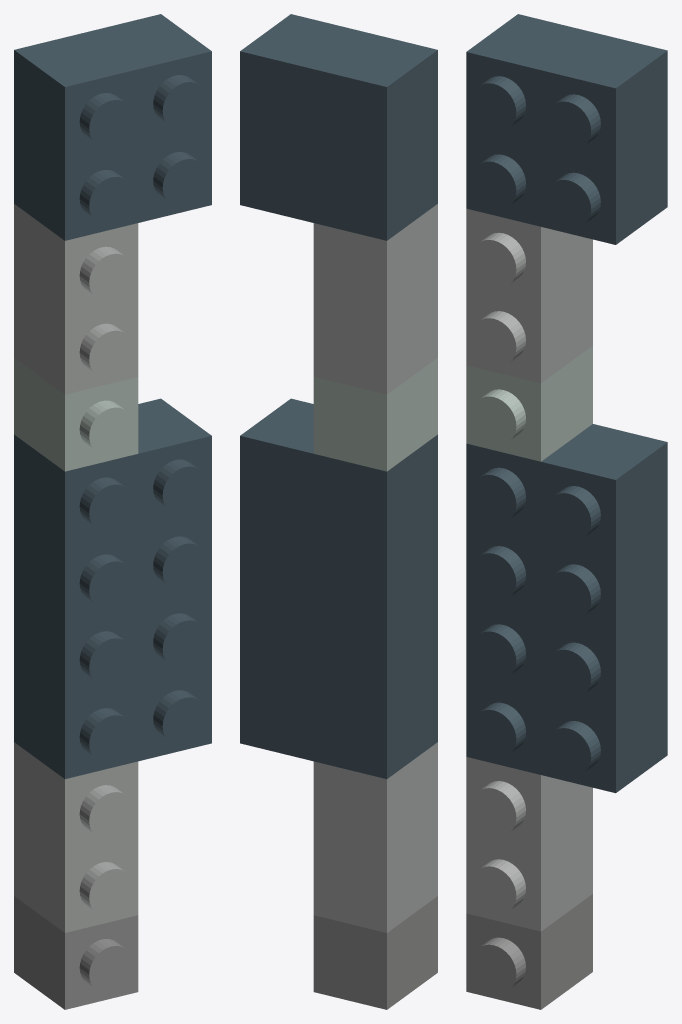
File: current.glb
3 renders of one model, left to right at view 1: azimuth 30°, elevation 25°; view 2: azimuth 150°, elevation 25°; view 3: azimuth 330°, elevation 25°, orthographic.
Visible parts, largest first — view 1: world; view 2: world; view 3: world.
Part boxes in pixels (box(x1,y1,x2,y2)): world: box(14, 14, 211, 1009); world: box(240, 14, 437, 1009); world: box(466, 14, 667, 1009).
Size of the model in its own units: 16 by 96 by 11.4.
